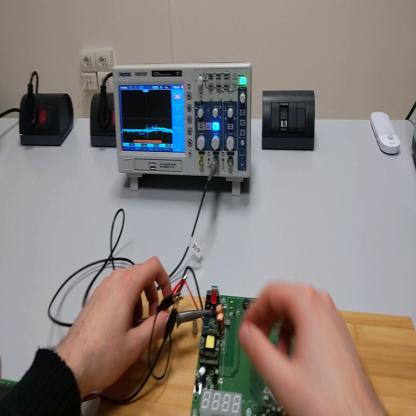hand: (242, 279, 377, 415), (71, 258, 173, 391)
oscilloscope: (113, 61, 255, 199)
oscilloscope probe tip: (172, 310, 216, 330)
socket: (19, 91, 74, 148), (90, 89, 117, 148)
working area: (101, 291, 415, 415)
